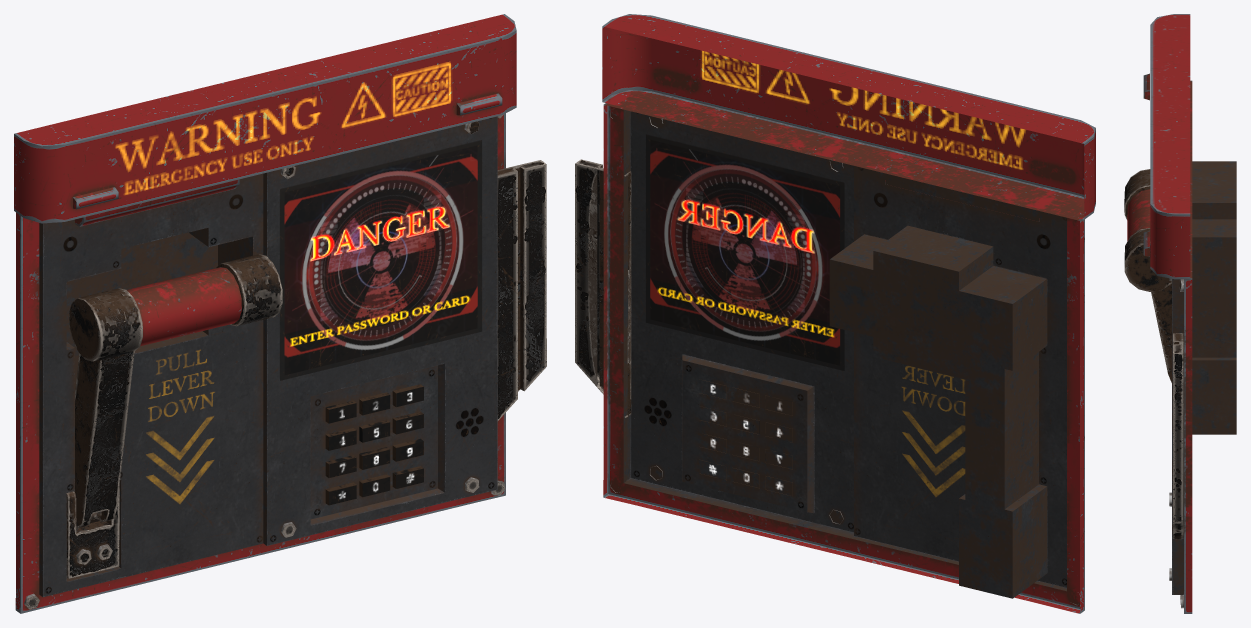
Rendered from ControlPanel_01.fbx.
3 renders of one model, left to right at view 1: azimuth 30°, elevation 25°; view 2: azimuth 150°, elevation 25°; view 3: azimuth 270°, elevation 25°, orthographic. The views are drawn at different scales.
Parts seen in each view (by area): view 1: ControlPanel_01; view 2: ControlPanel_01; view 3: ControlPanel_01.
Boxes of the visible parts, <box> form: ControlPanel_01: <box>14,14,546,613</box>; ControlPanel_01: <box>575,14,1095,613</box>; ControlPanel_01: <box>1124,14,1236,613</box>.
Size of the model in its own units: 61.49 by 53.77 by 13.65.
1 material, 1 textured.
